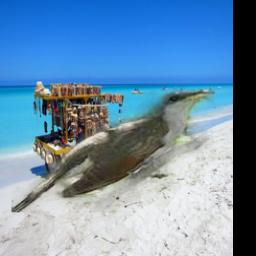Cuckoo: (12, 90, 215, 213)
